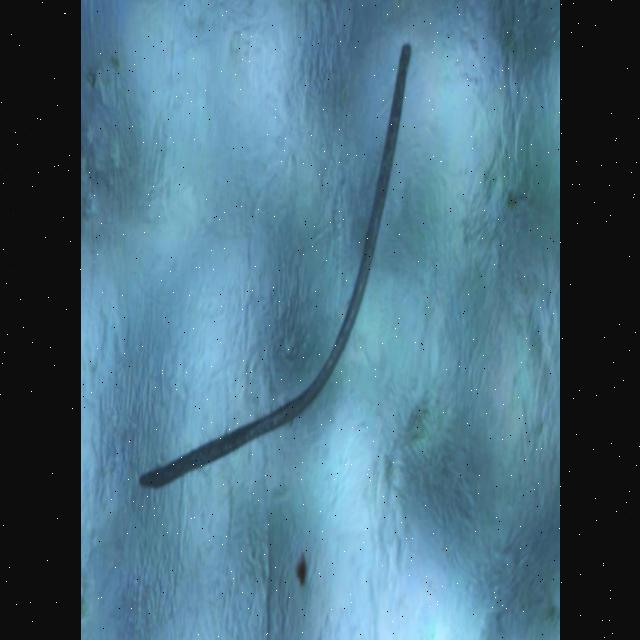Fibre: (136, 40, 412, 490)
